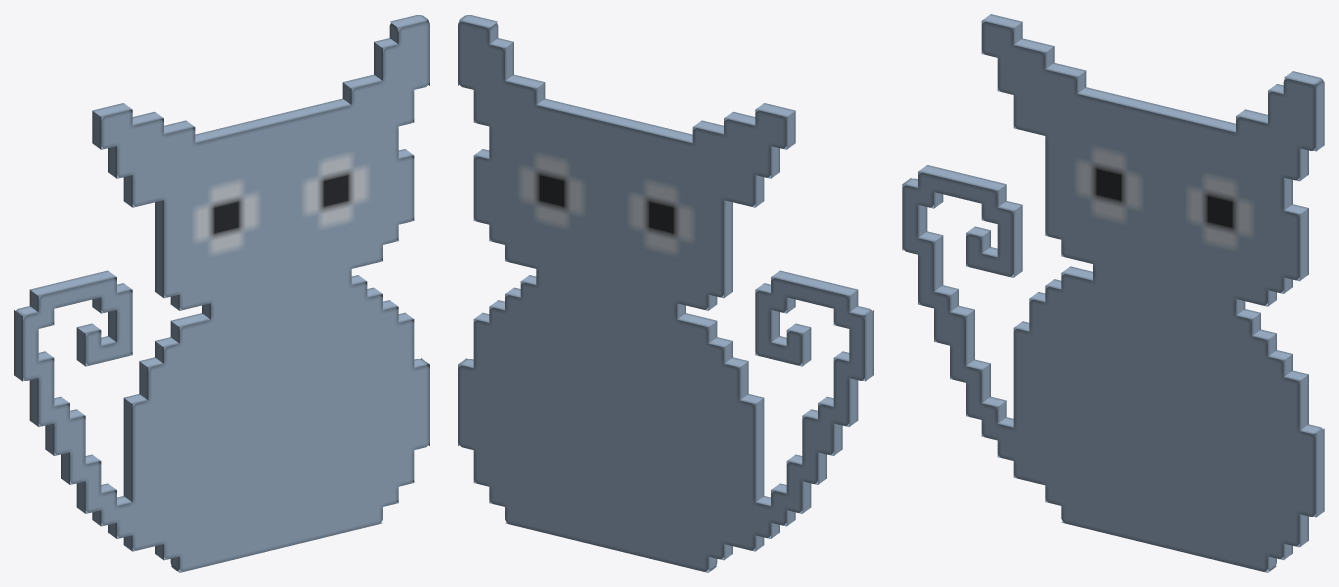
Rendered from cat2G.fbx.
The picture shows the model from 3 angles, left to right: view 1: azimuth 30°, elevation 25°; view 2: azimuth 150°, elevation 25°; view 3: azimuth 330°, elevation 25°; orthographic projection.
Visible parts, largest first — view 1: generated; view 2: generated; view 3: generated.
Part boxes in pixels (left/top/right/bottom): generated: left=14, top=15, right=429, bottom=572; generated: left=458, top=15, right=873, bottom=572; generated: left=902, top=14, right=1324, bottom=572.
Size of the model in its own units: 260 by 300 by 10.
